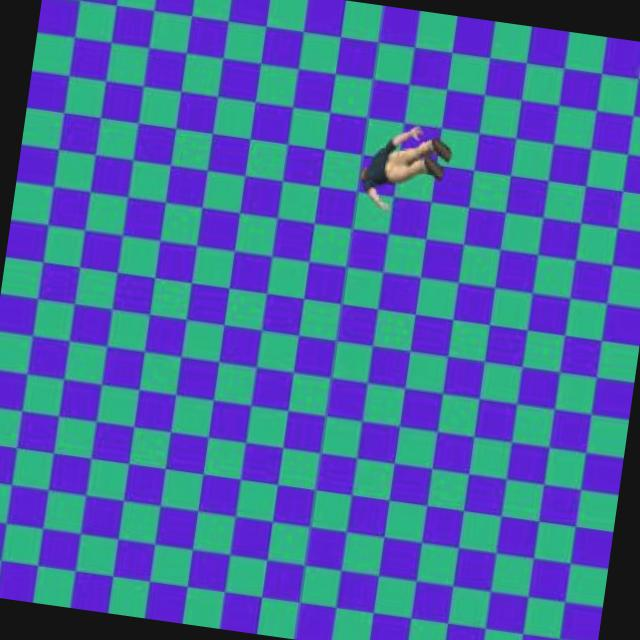Person: (354, 116, 456, 223)
